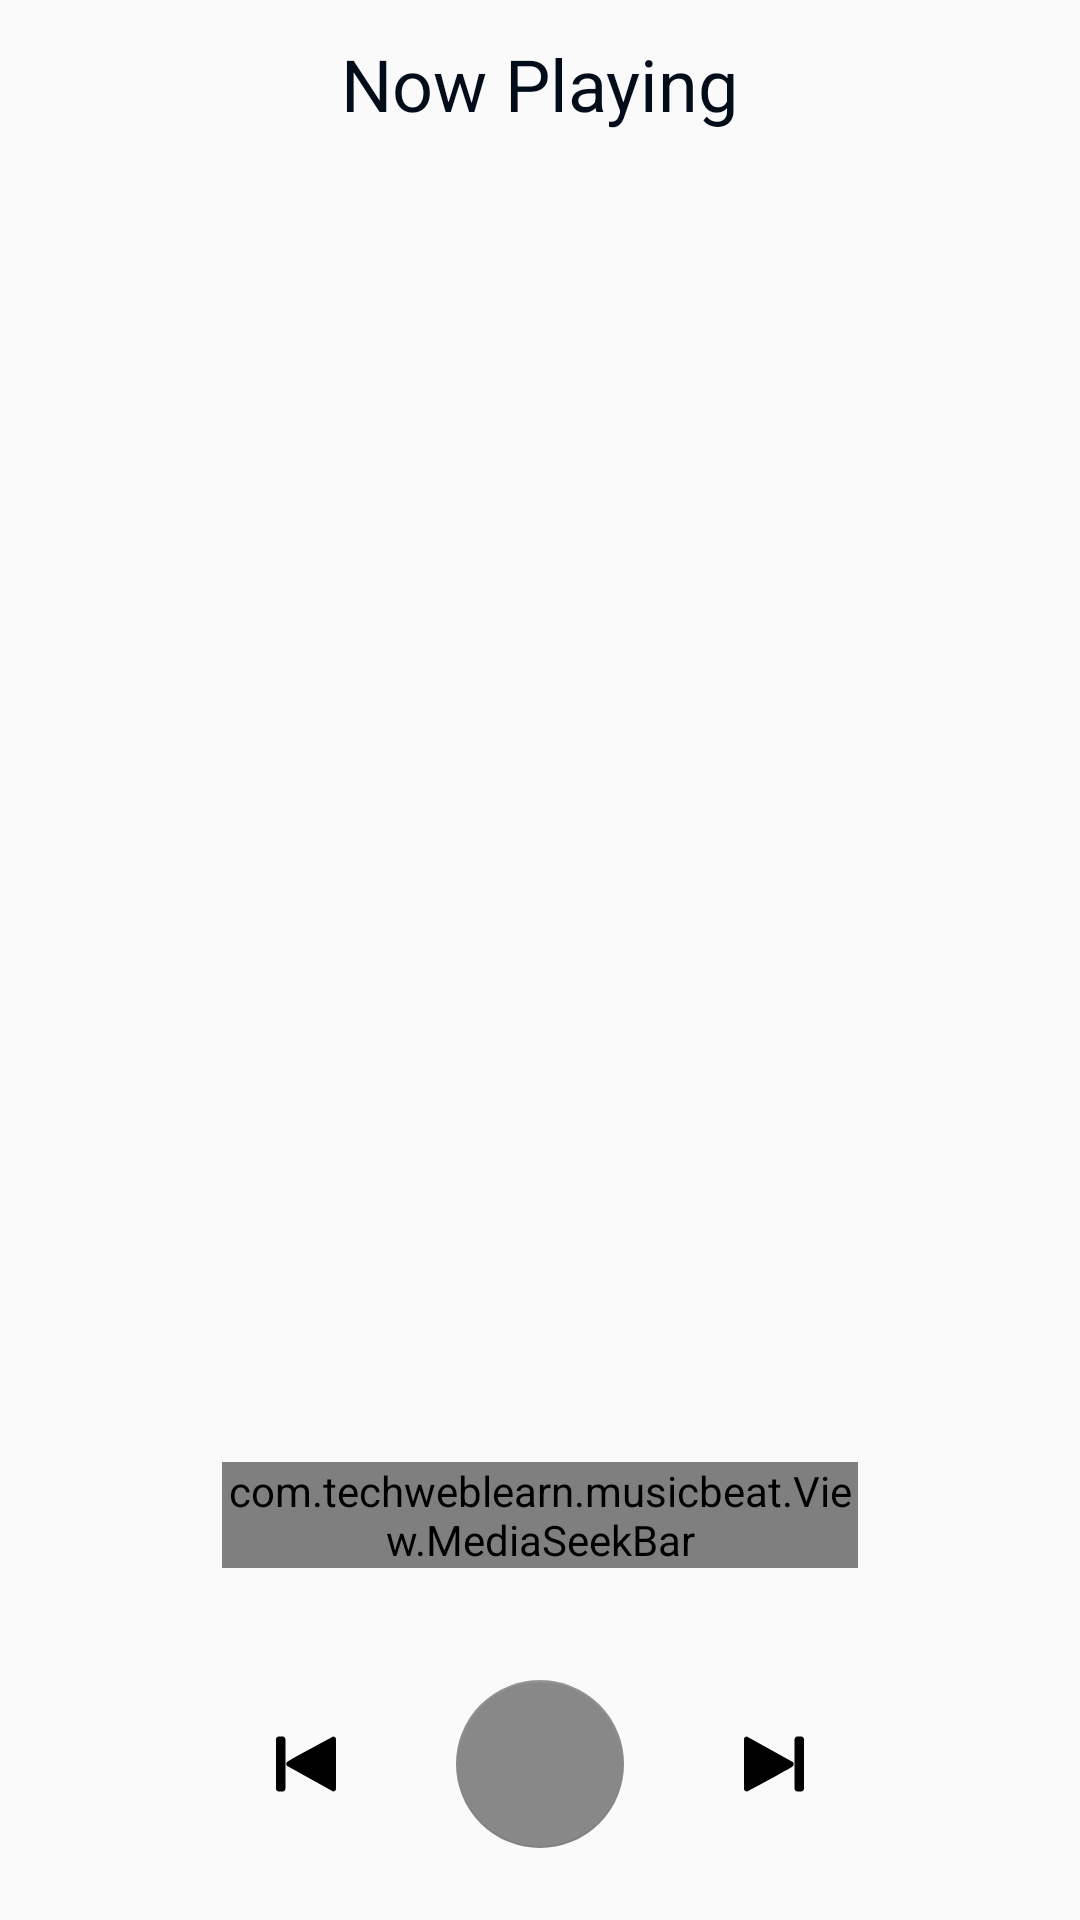

Icons on this 1080px×1920px Android screen, each with its box as (x1, y1, x2, y2):
next track: (744, 1736, 804, 1792)
previous track: (276, 1736, 336, 1792)
